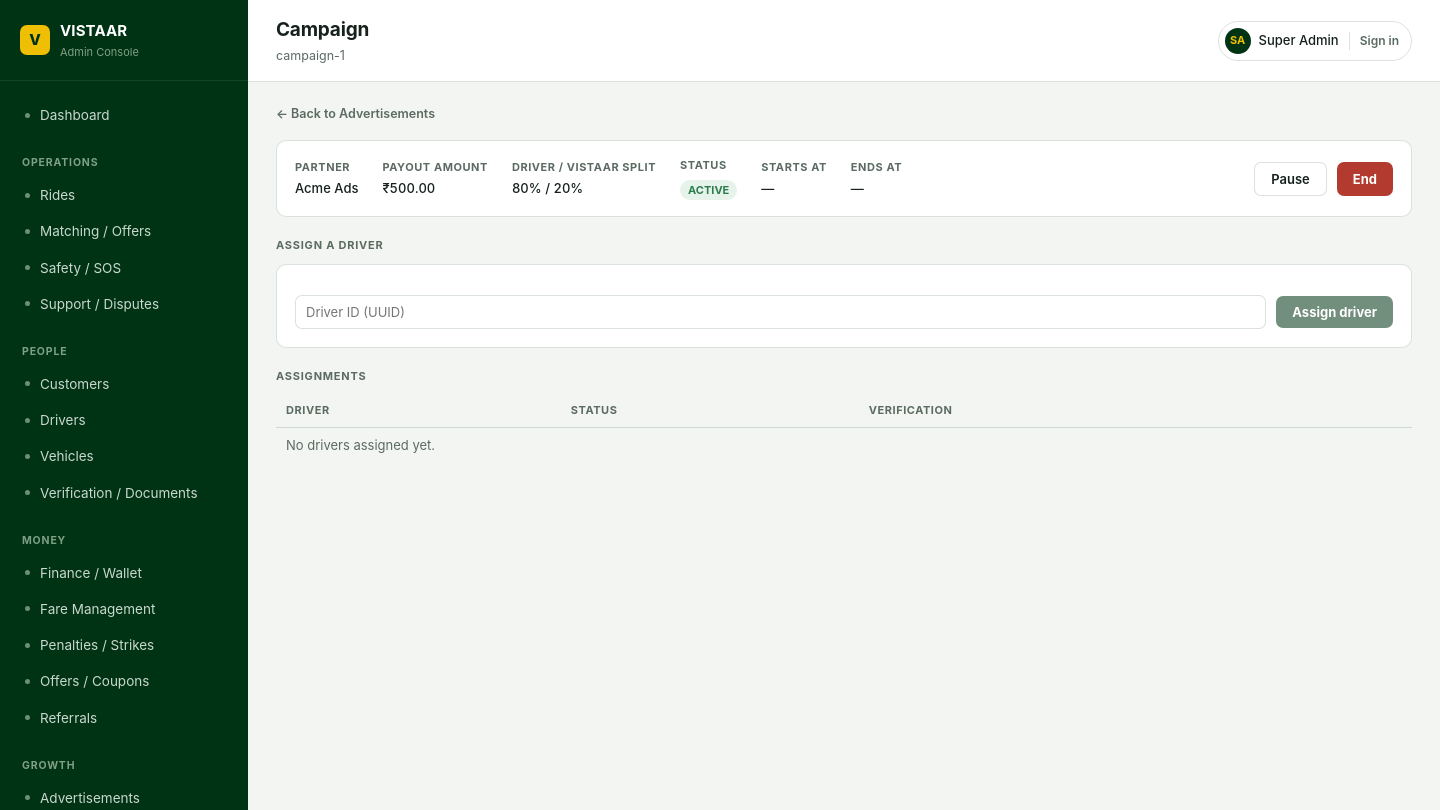
it: CampaignDetailPage › assigns a driver and refreshes the assignment list
The image size is (1440, 810).
Expected: the text "Acme Ads" is shown, [295,179,358,198]
Type "driver-1" into the field labelled "Driver ID" at (781, 312), box [295,294,1266,328]
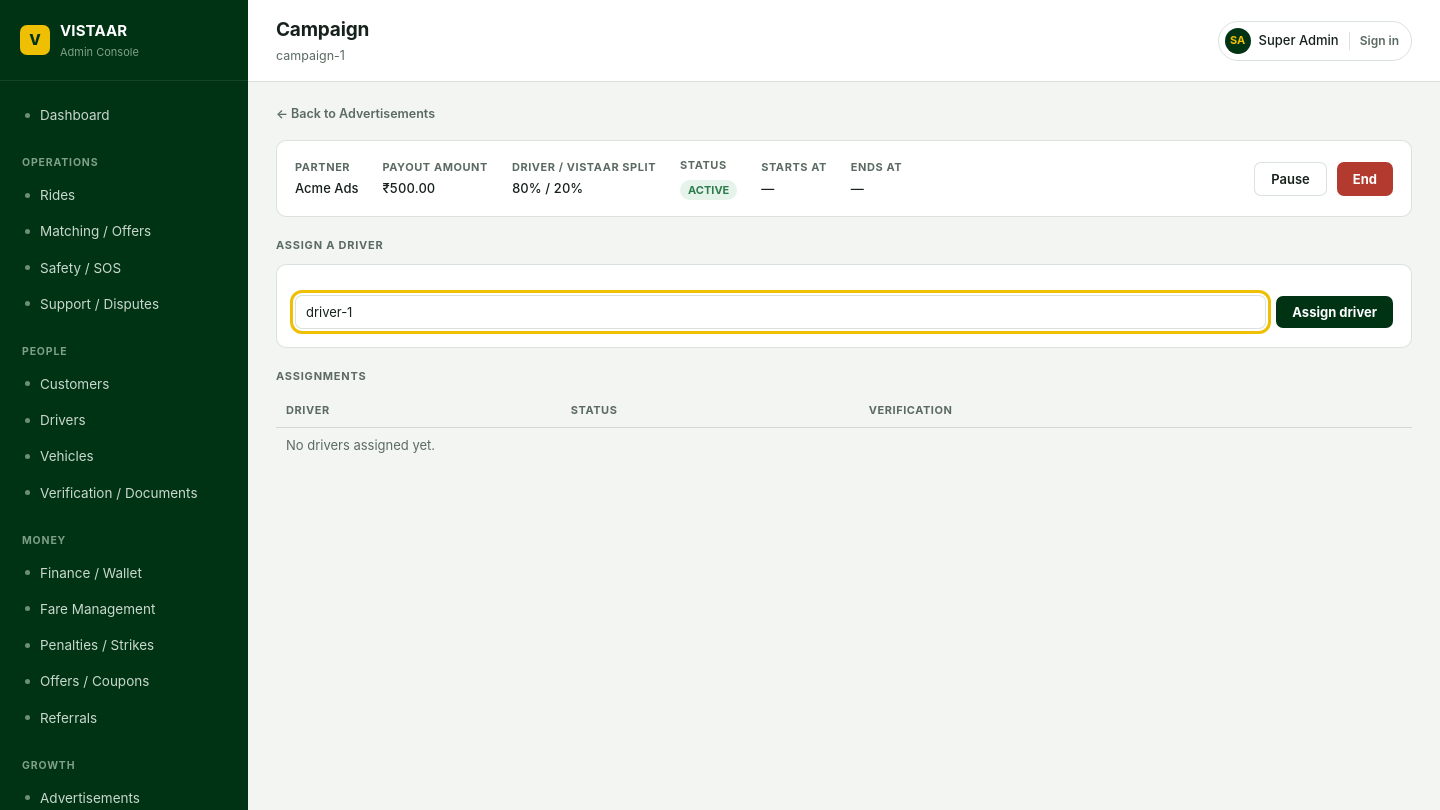
Click the button "Assign driver" at (1335, 312), box [1276,296,1393,328]
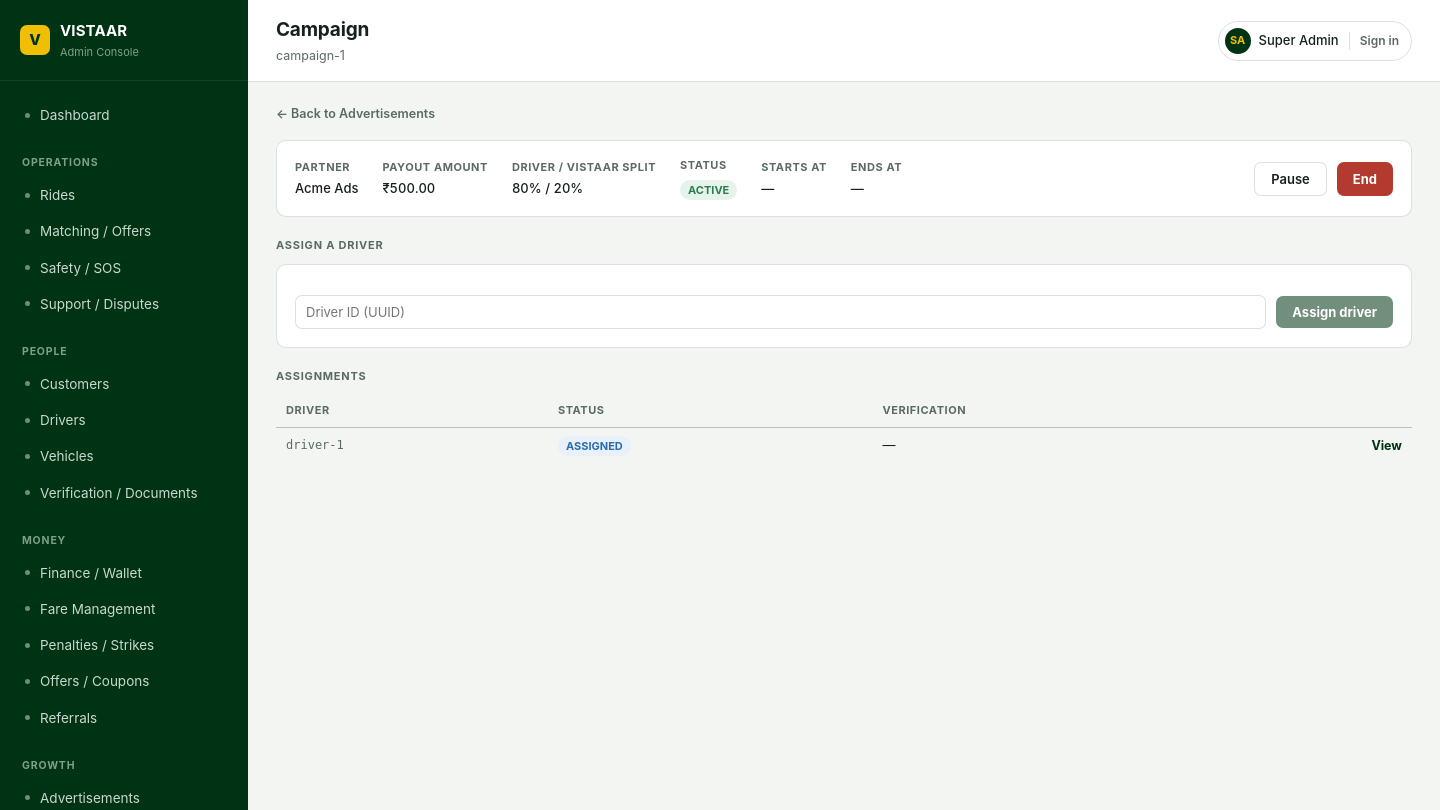
Result: the text "driver-1" is shown at [276,427,548,464]
